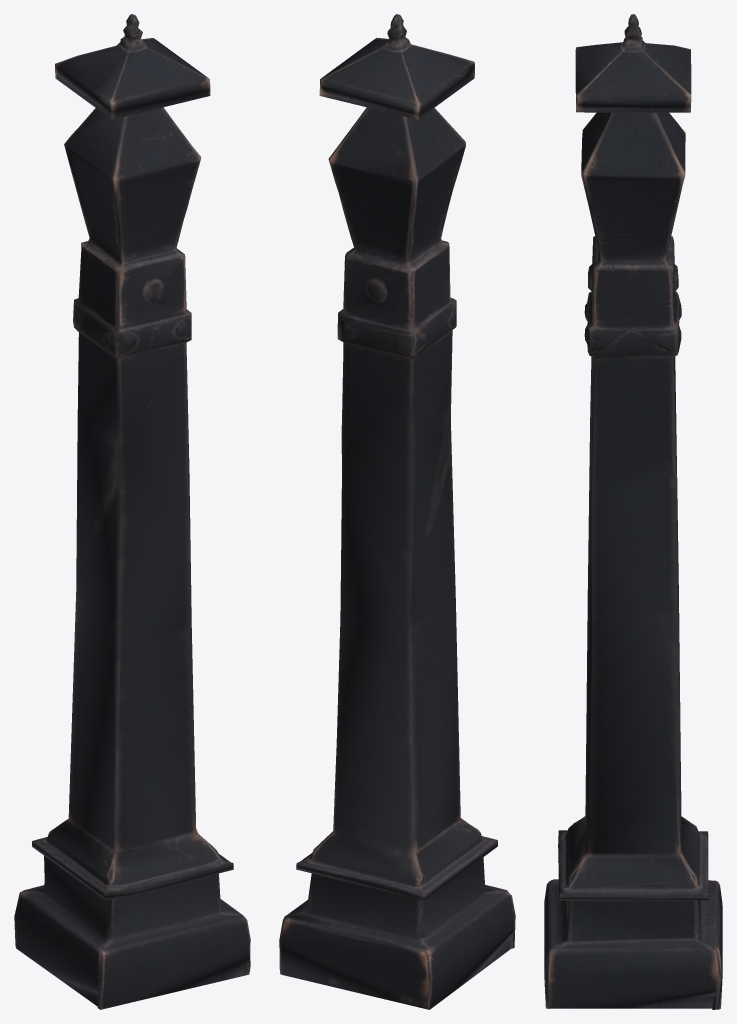
The model's file is prp_lamp_post_a.glb.
The picture shows the model from 3 angles, left to right: view 1: azimuth 30°, elevation 25°; view 2: azimuth 150°, elevation 25°; view 3: azimuth 270°, elevation 25°; orthographic projection.
Parts seen in each view (by area): view 1: prp_lamp_post_a; view 2: prp_lamp_post_a; view 3: prp_lamp_post_a.
Part boxes in pixels (x1,y1,x2,y2): prp_lamp_post_a: (14,14,250,1009); prp_lamp_post_a: (279,14,515,1009); prp_lamp_post_a: (544,14,722,1009).
Bounding box in the file's own units: 0.5402 × 3.2 × 0.5406.
1 material, 1 textured.
